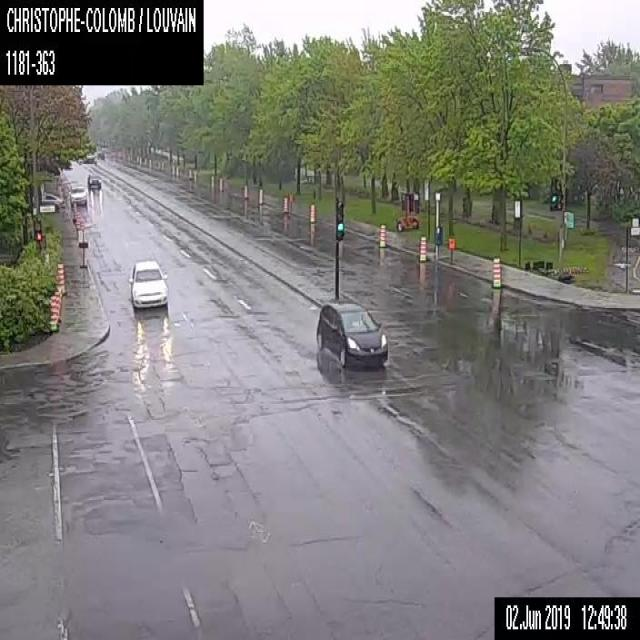construction: (396, 188, 420, 232), (77, 228, 88, 267), (492, 256, 503, 288), (50, 294, 59, 332), (58, 263, 66, 295), (418, 235, 427, 262), (57, 285, 62, 322), (54, 290, 59, 326), (378, 222, 385, 247), (308, 203, 316, 223), (448, 237, 454, 262), (282, 195, 288, 213), (257, 186, 263, 202), (75, 210, 80, 229), (71, 202, 76, 220), (218, 177, 223, 191), (243, 183, 247, 198), (210, 173, 214, 187), (289, 192, 292, 210), (193, 168, 196, 182), (80, 218, 84, 228), (175, 165, 178, 176), (188, 168, 191, 178), (171, 165, 174, 175), (148, 159, 151, 167), (161, 161, 163, 170)
vehicle: (315, 297, 387, 368), (128, 257, 167, 308), (41, 192, 65, 210), (70, 183, 86, 204), (86, 172, 102, 190), (95, 150, 104, 159)
